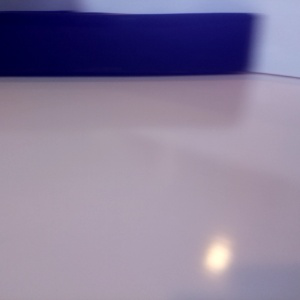zone: (1, 10, 254, 76)
